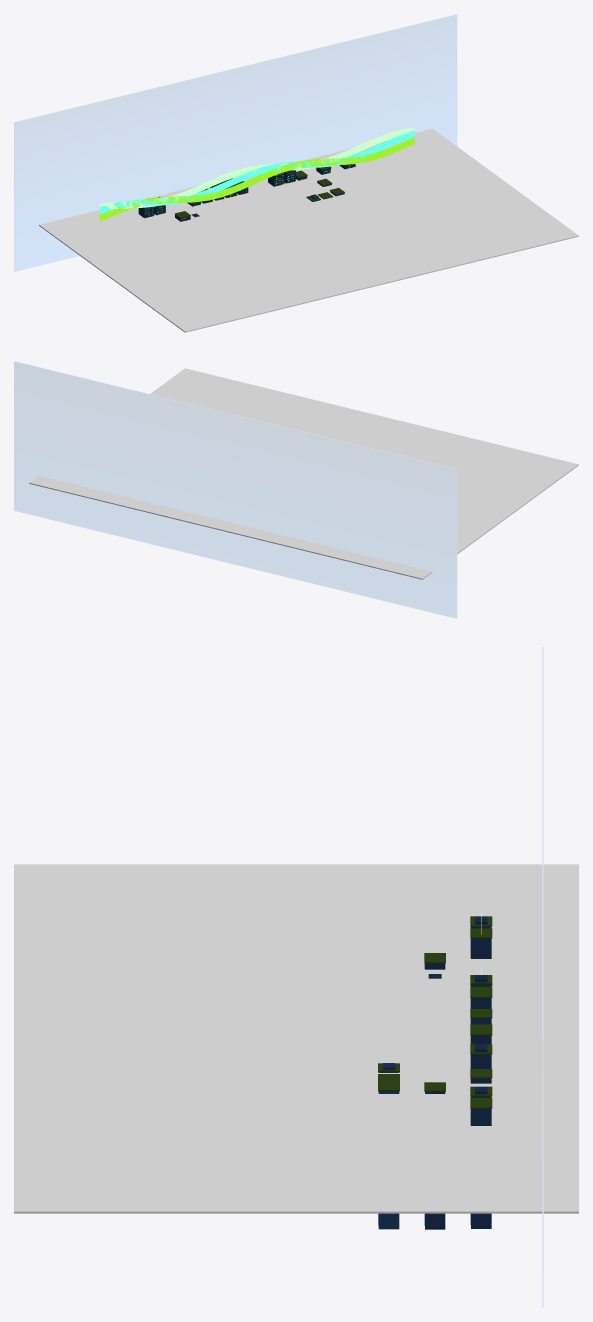
The model's file is lakeblocks.glb.
The picture shows the model from 3 angles, top to bottom: view 1: azimuth 30°, elevation 25°; view 2: azimuth 150°, elevation 25°; view 3: azimuth 270°, elevation 25°; orthographic projection. The views are drawn at different scales.
Visible parts, largest first — view 1: Ground contact / transparent shadow receiver.075, Sky gradient / editable material.075, World / windows and source motifs.037, World / terrain and architecture.038; view 2: Sky gradient / editable material.075, Ground contact / transparent shadow receiver.075; view 3: Ground contact / transparent shadow receiver.075, World / terrain and architecture.038, Sky gradient / editable material.075.
Boxes of the visible parts, x1,y1,x2,y2 form: Ground contact / transparent shadow receiver.075: (39, 128, 578, 332); Sky gradient / editable material.075: (14, 14, 457, 271); World / windows and source motifs.037: (99, 127, 414, 221); World / terrain and architecture.038: (138, 164, 355, 221); Sky gradient / editable material.075: (14, 361, 457, 618); Ground contact / transparent shadow receiver.075: (29, 368, 578, 579); Ground contact / transparent shadow receiver.075: (14, 864, 578, 1213); World / terrain and architecture.038: (378, 916, 492, 1229); Sky gradient / editable material.075: (542, 647, 543, 1307).
Bounding box in the file's own units: 180 × 62 × 110.
